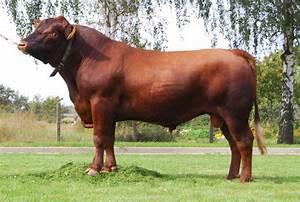cow: (17, 15, 267, 182)
